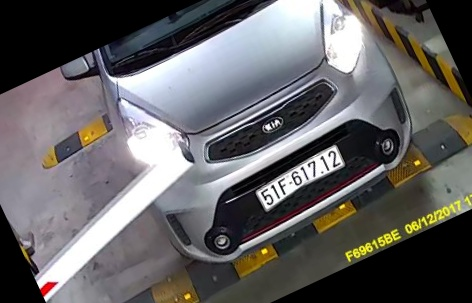plate: (253, 139, 348, 216)
